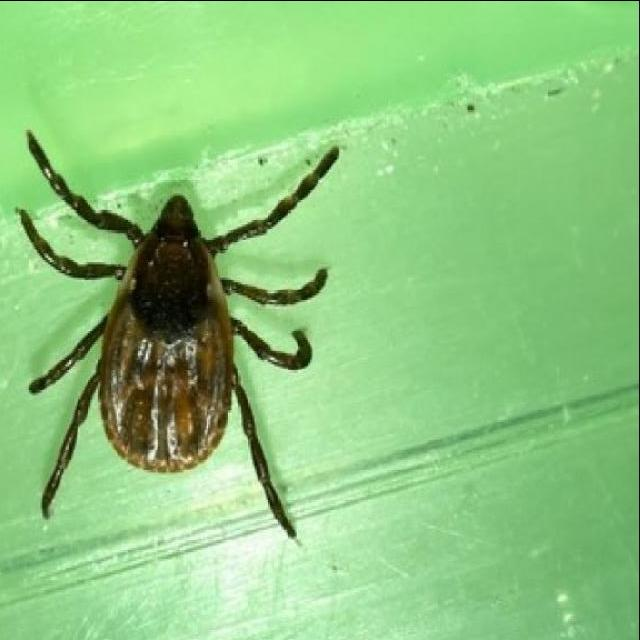Rhipicephalus Sanguineus-F: (17, 128, 344, 538)
